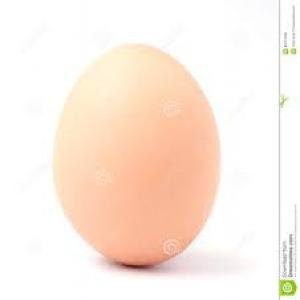Egg: (49, 41, 222, 269)
